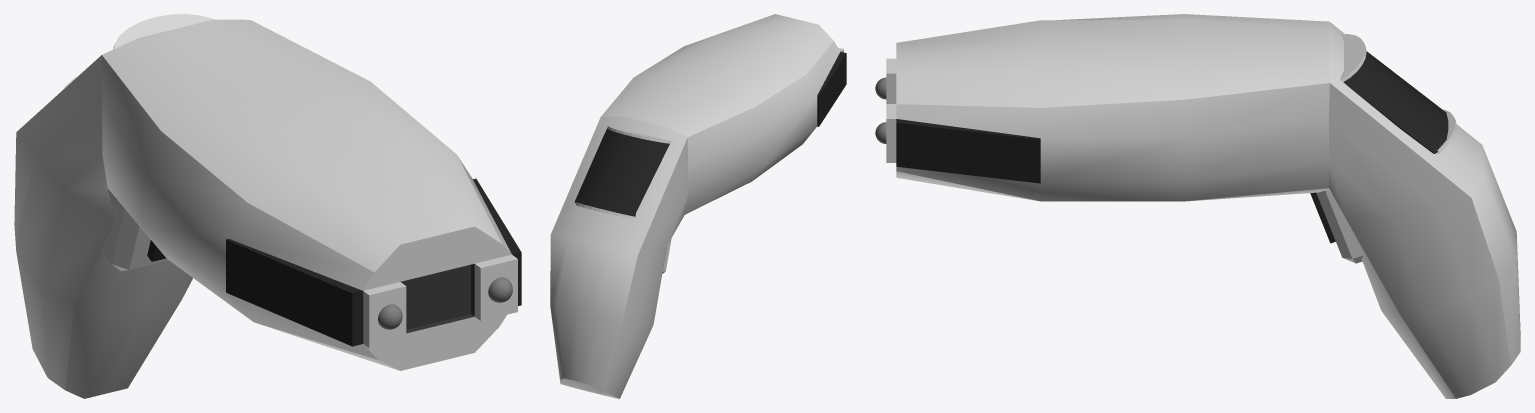
File: scanner-obj (1).fbx
3 views of the same model, side by side, from view 1: azimuth 30°, elevation 25°; view 2: azimuth 150°, elevation 25°; view 3: azimuth 270°, elevation 25° (orthographic). The views are drawn at different scales.
Visible parts, largest first — view 1: pSphere3; view 2: pSphere3; view 3: pSphere3.
Boxes of the visible parts, x1=… form: pSphere3: x1=14, y1=14, x2=521, y2=398; pSphere3: x1=550, y1=14, x2=846, y2=398; pSphere3: x1=875, y1=14, x2=1520, y2=398.
Bounding box in the file's own units: 21.87 × 34.78 × 58.88.
